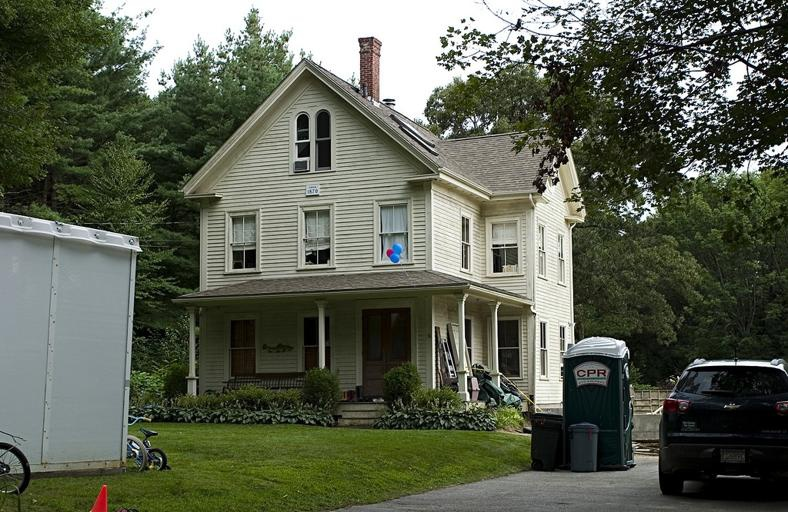non-vehicle: (128, 413, 168, 471), (0, 440, 32, 497), (126, 434, 147, 474)
